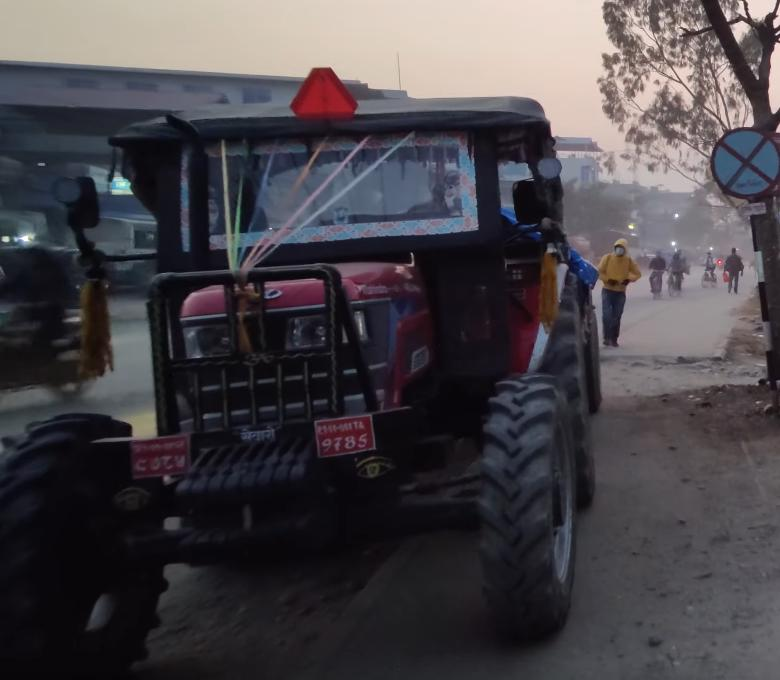tractor: (93, 83, 629, 656)
